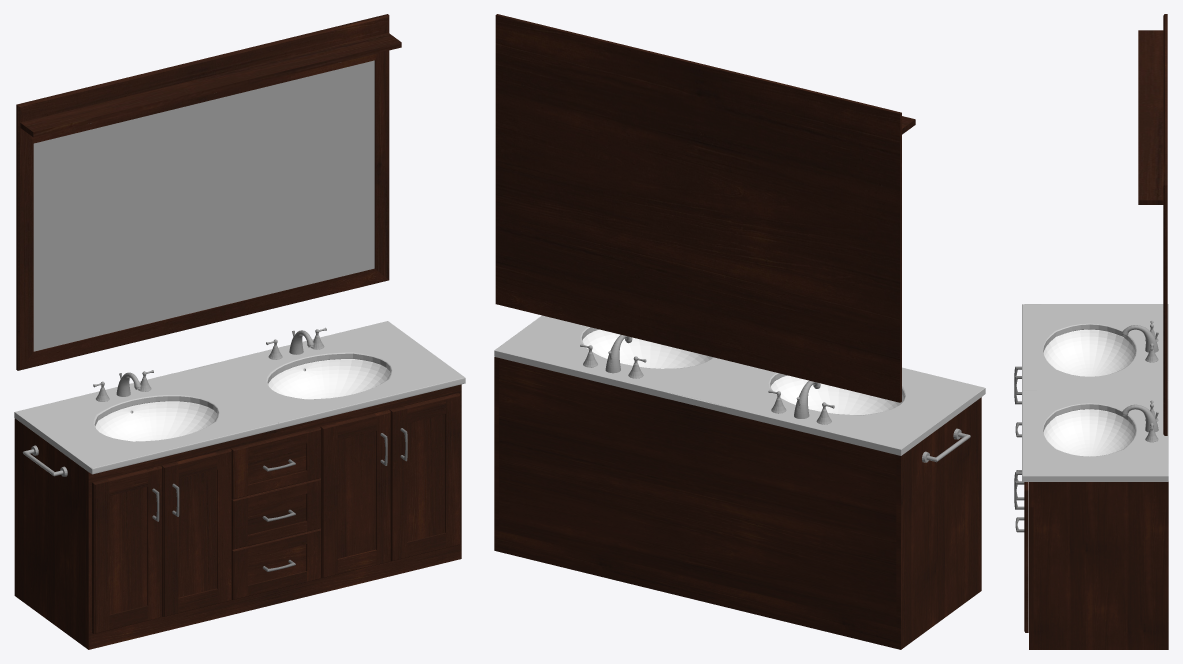
File: double_vanity.obj
3 renders of one model, left to right at view 1: azimuth 30°, elevation 25°; view 2: azimuth 150°, elevation 25°; view 3: azimuth 270°, elevation 25°, orthographic. The views are drawn at different scales.
Parts seen in each view (by area): view 1: sweethome3d_window_mirror.001_Plane.000_mirror, mirror_Plane.008_dark_wood_dark_wood.jpg, marble_Circle_marble, vanitybase_Cube.001_dark_wood_dark_wood.jpg, righdoor_righside_Plane.019_dark_wood_dark_wood.jpg, leftdoor_leftside_Plane.014_dark_wood_dark_wood.jpg, leftdoor_righside_Plane.018_dark_wood_dark_wood.jpg, rightdoor_leftsid_Plane.013_dark_wood_dark_wood.jpg, woodtape_Cube.002_dark_wood_dark_wood.jpg, drawer1_Plane.015_dark_wood_dark_wood.jpg, drawer2_Plane.016_dark_wood_dark_wood.jpg, drawer3_Plane.017_dark_wood_dark_wood.jpg (+2 smaller); view 2: mirror_Plane.008_dark_wood_dark_wood.jpg, vanitybase_Cube.001_dark_wood_dark_wood.jpg, marble_Circle_marble, sink_Sphere_white_ceramic, sink2_Sphere.005_white_ceramic, woodtape_Cube.002_dark_wood_dark_wood.jpg; view 3: vanitybase_Cube.001_dark_wood_dark_wood.jpg, marble_Circle_marble, mirror_Plane.008_dark_wood_dark_wood.jpg, sink_Sphere_white_ceramic, sink2_Sphere.005_white_ceramic, woodtape_Cube.002_dark_wood_dark_wood.jpg, righdoor_righside_Plane.019_dark_wood_dark_wood.jpg, simpletap2_Circle.006_chrome, simpletap_Circle.001_chrome.
Boxes of the visible parts, x1,y1,x2,y2 form: sweethome3d_window_mirror.001_Plane.000_mirror: (33,60,374,351); mirror_Plane.008_dark_wood_dark_wood.jpg: (16,14,401,370); marble_Circle_marble: (14,321,465,474); vanitybase_Cube.001_dark_wood_dark_wood.jpg: (14,418,85,647); righdoor_righside_Plane.019_dark_wood_dark_wood.jpg: (390,393,460,561); leftdoor_leftside_Plane.014_dark_wood_dark_wood.jpg: (92,465,162,633); leftdoor_righside_Plane.018_dark_wood_dark_wood.jpg: (320,410,390,578); rightdoor_leftsid_Plane.013_dark_wood_dark_wood.jpg: (161,448,231,616); woodtape_Cube.002_dark_wood_dark_wood.jpg: (86,384,461,649); drawer1_Plane.015_dark_wood_dark_wood.jpg: (231,427,321,499); drawer2_Plane.016_dark_wood_dark_wood.jpg: (231,478,321,549); drawer3_Plane.017_dark_wood_dark_wood.jpg: (231,528,321,599); mirror_Plane.008_dark_wood_dark_wood.jpg: (495,14,915,402); vanitybase_Cube.001_dark_wood_dark_wood.jpg: (494,357,978,649); marble_Circle_marble: (494,315,985,455); sink_Sphere_white_ceramic: (771,375,903,414); sink2_Sphere.005_white_ceramic: (582,329,712,368); woodtape_Cube.002_dark_wood_dark_wood.jpg: (978,397,981,592); vanitybase_Cube.001_dark_wood_dark_wood.jpg: (1033,482,1168,649); marble_Circle_marble: (1022,304,1168,481); mirror_Plane.008_dark_wood_dark_wood.jpg: (1138,14,1167,435); sink_Sphere_white_ceramic: (1043,329,1135,376); sink2_Sphere.005_white_ceramic: (1043,409,1135,456); woodtape_Cube.002_dark_wood_dark_wood.jpg: (1029,482,1033,649); righdoor_righside_Plane.019_dark_wood_dark_wood.jpg: (1024,482,1028,632); simpletap2_Circle.006_chrome: (1122,404,1158,432); simpletap_Circle.001_chrome: (1122,325,1158,352).
Size of the model in its own units: 185 by 225 by 68.
